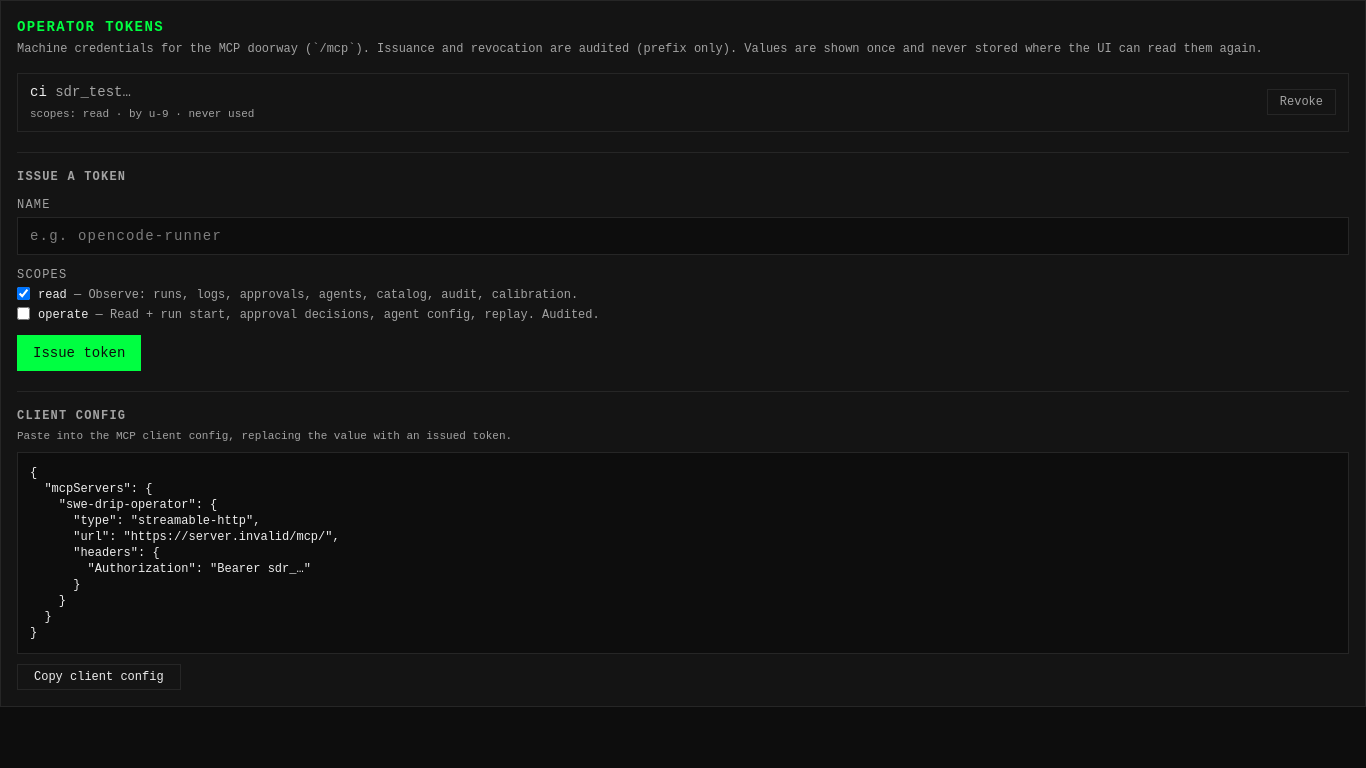
OperatorTokens section › revoke requires confirm then flags the row
Expected: the text "ci" is shown, [30,84,47,100]
Click the button "Revoke". click: (1301, 102)
box: [1267,89,1336,115]
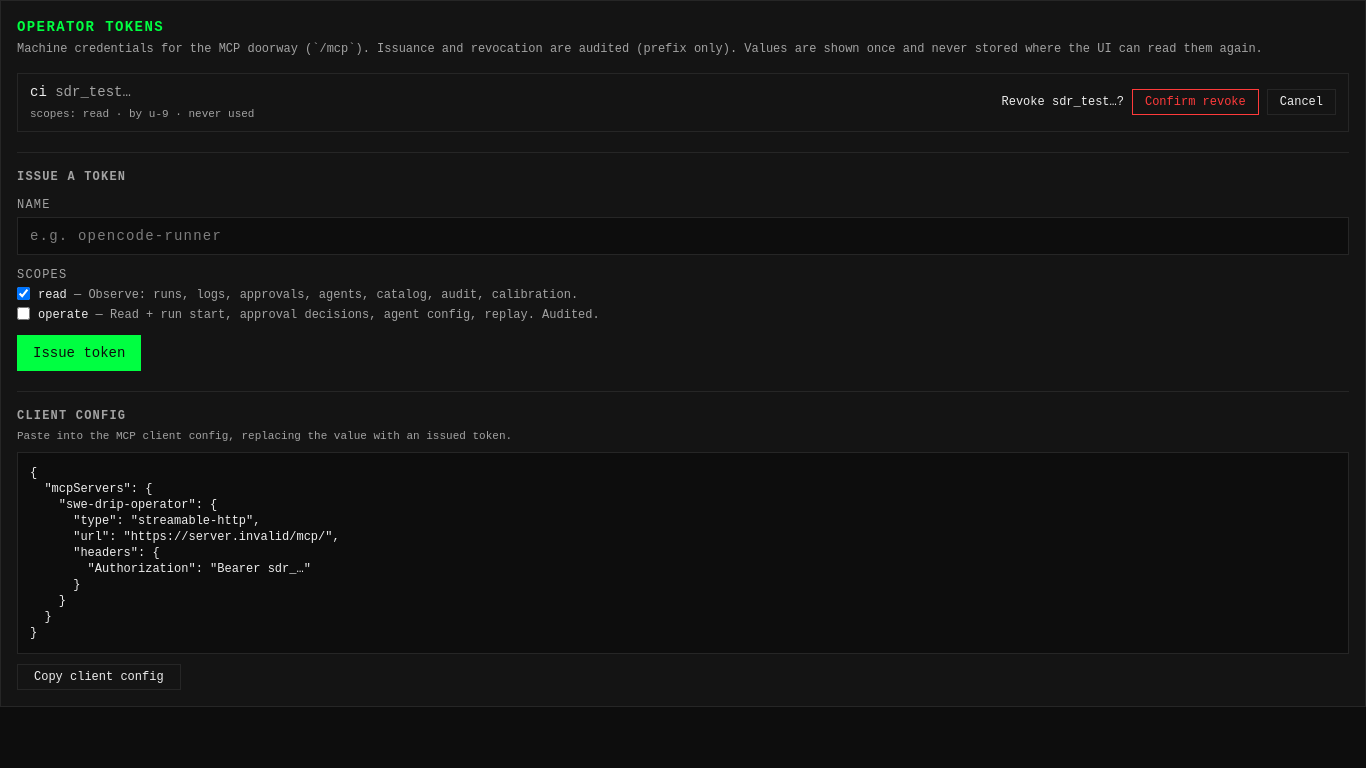
Now the button "Confirm revoke" is shown
Click the button "Confirm revoke". click: (1195, 102)
box: [1132,89,1259,115]
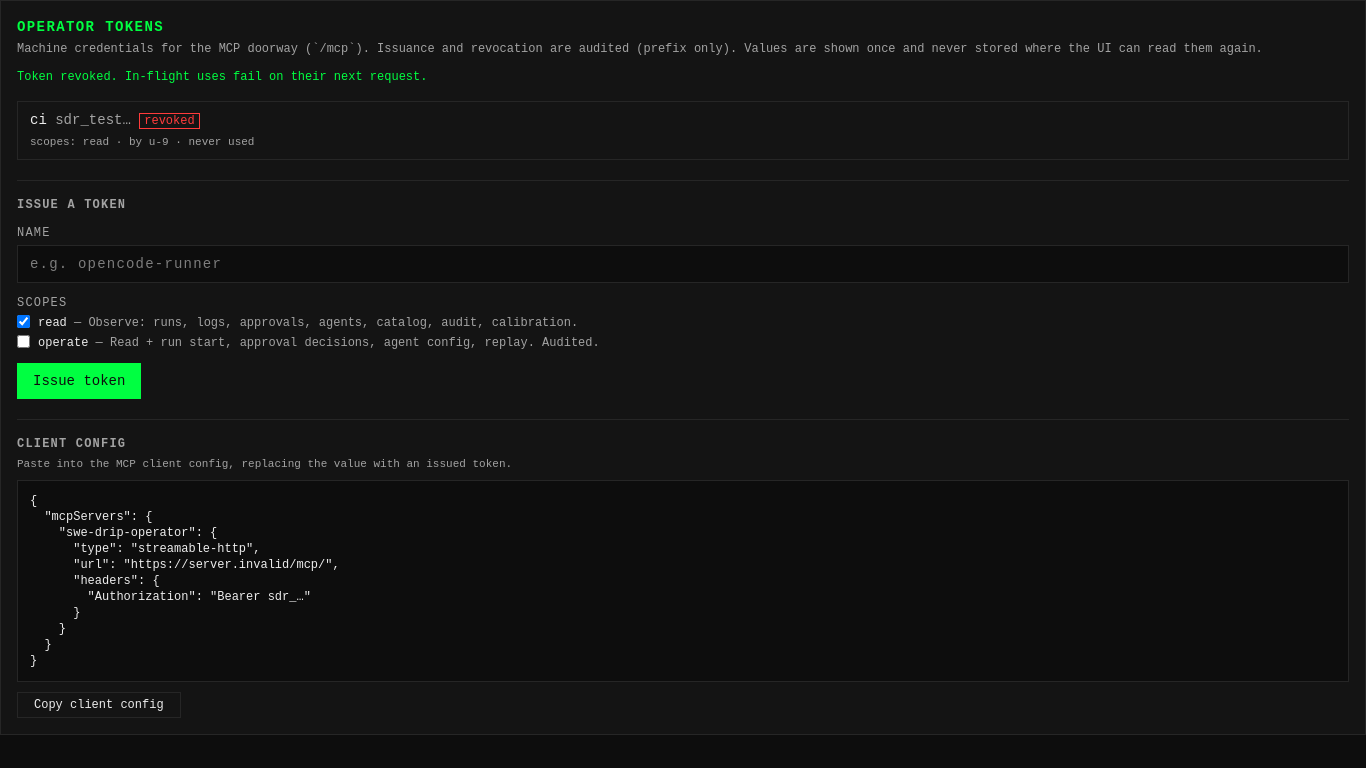
Now the text "revoked" is shown, box [139,113,200,129]
